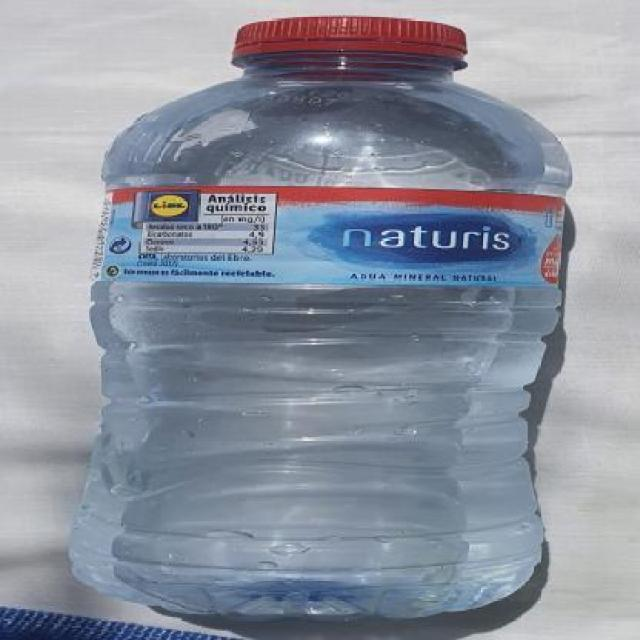bottle: (46, 6, 566, 629)
